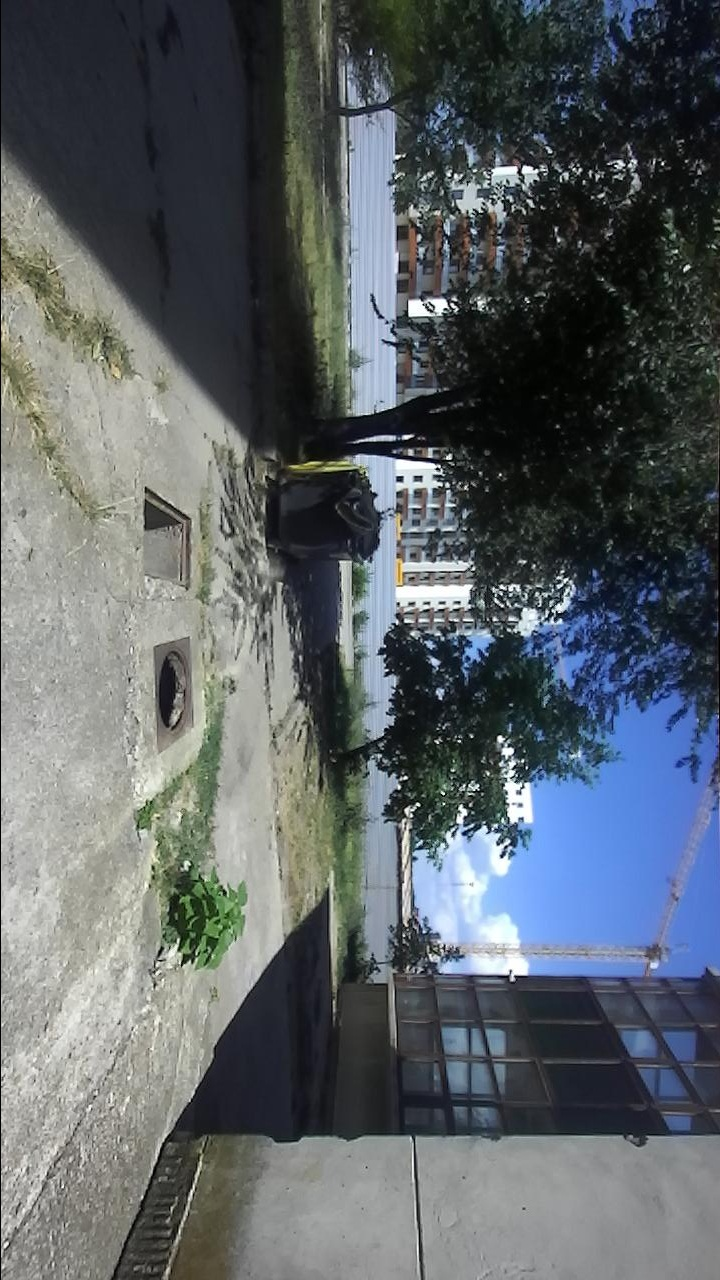drain: (137, 480, 196, 593), (153, 643, 193, 736)
